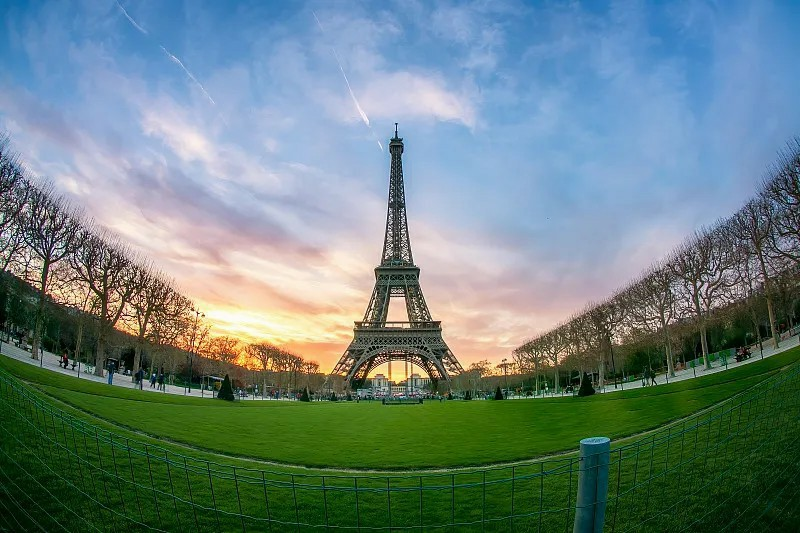Eiffel: (331, 122, 468, 397)
